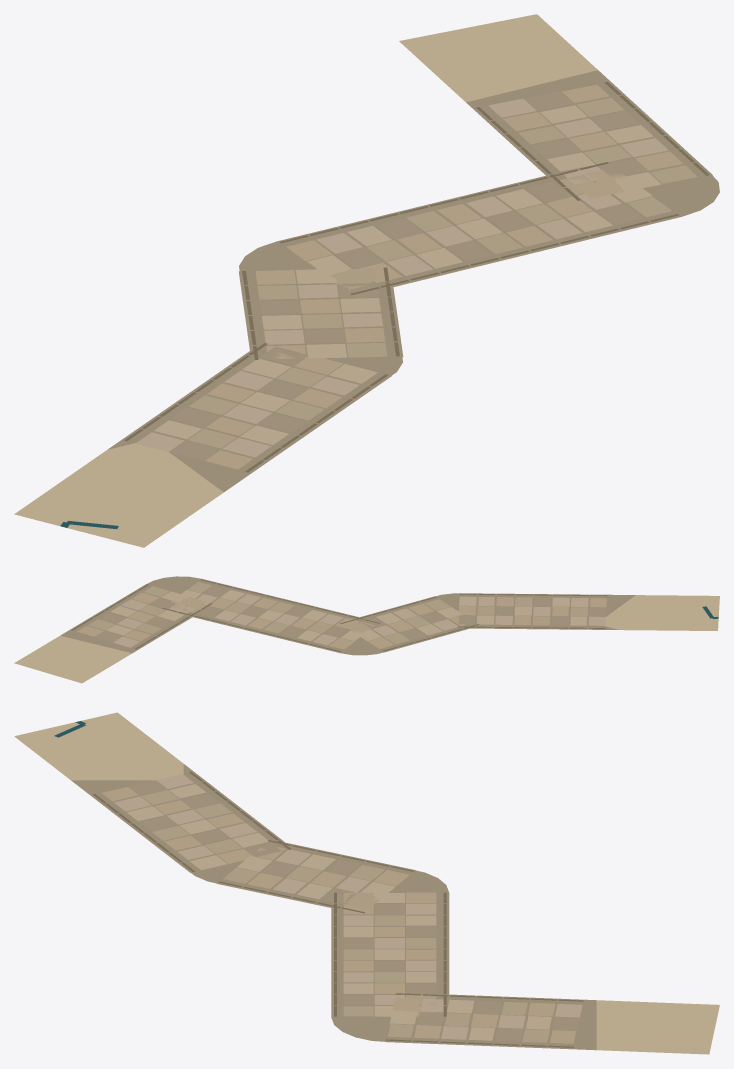
Rendered from route-atk-yard_s-walk.glb.
3 renders of one model, top to bottom at view 1: azimuth 30°, elevation 25°; view 2: azimuth 150°, elevation 25°; view 3: azimuth 270°, elevation 25°, orthographic. The views are drawn at different scales.
Parts seen in each view (by area): view 1: Surveyed floor · route-atk-yard_s-walk, Spice Gate to Cloth Yard / #C2AE8D, Spice Gate to Cloth Yard / #C9B798, Spice Gate to Cloth Yard / #BDAD8E, Spice Gate to Cloth Yard / #AE9D84, Spice Gate to Cloth Yard / #C7B399, Spice Gate to Cloth Yard / #85775D; view 2: Surveyed floor · route-atk-yard_s-walk, Spice Gate to Cloth Yard / #C9B798, Spice Gate to Cloth Yard / #C2AE8D, Spice Gate to Cloth Yard / #BDAD8E, Spice Gate to Cloth Yard / #AE9D84, Spice Gate to Cloth Yard / #C7B399, Spice Gate to Cloth Yard / #85775D; view 3: Surveyed floor · route-atk-yard_s-walk, Spice Gate to Cloth Yard / #C9B798, Spice Gate to Cloth Yard / #C2AE8D, Spice Gate to Cloth Yard / #BDAD8E, Spice Gate to Cloth Yard / #AE9D84, Spice Gate to Cloth Yard / #C7B399, Spice Gate to Cloth Yard / #85775D.
Part boxes in pixels (left/top/right/bottom): Surveyed floor · route-atk-yard_s-walk: left=14, top=14, right=719, bottom=547; Spice Gate to Cloth Yard / #C2AE8D: left=205, top=84, right=683, bottom=469; Spice Gate to Cloth Yard / #C9B798: left=154, top=105, right=661, bottom=444; Spice Gate to Cloth Yard / #BDAD8E: left=188, top=98, right=697, bottom=448; Spice Gate to Cloth Yard / #AE9D84: left=170, top=91, right=646, bottom=460; Spice Gate to Cloth Yard / #C7B399: left=136, top=98, right=668, bottom=457; Spice Gate to Cloth Yard / #85775D: left=124, top=82, right=709, bottom=472; Surveyed floor · route-atk-yard_s-walk: left=14, top=576, right=719, bottom=683; Spice Gate to Cloth Yard / #C9B798: left=106, top=590, right=586, bottom=641; Spice Gate to Cloth Yard / #C2AE8D: left=77, top=592, right=606, bottom=649; Spice Gate to Cloth Yard / #BDAD8E: left=88, top=582, right=587, bottom=644; Spice Gate to Cloth Yard / #AE9D84: left=95, top=586, right=606, bottom=642; Spice Gate to Cloth Yard / #C7B399: left=113, top=594, right=605, bottom=647; Spice Gate to Cloth Yard / #85775D: left=71, top=579, right=607, bottom=651; Surveyed floor · route-atk-yard_s-walk: left=14, top=712, right=719, bottom=1054; Spice Gate to Cloth Yard / #C9B798: left=126, top=784, right=551, bottom=1040; Spice Gate to Cloth Yard / #C2AE8D: left=102, top=787, right=575, bottom=1043; Spice Gate to Cloth Yard / #BDAD8E: left=141, top=790, right=549, bottom=1042; Spice Gate to Cloth Yard / #AE9D84: left=129, top=780, right=579, bottom=1041; Spice Gate to Cloth Yard / #C7B399: left=114, top=774, right=582, bottom=1039; Spice Gate to Cloth Yard / #85775D: left=93, top=771, right=583, bottom=1047.
Size of the model in its own units: 54.9 by 0.026 by 47.87.
